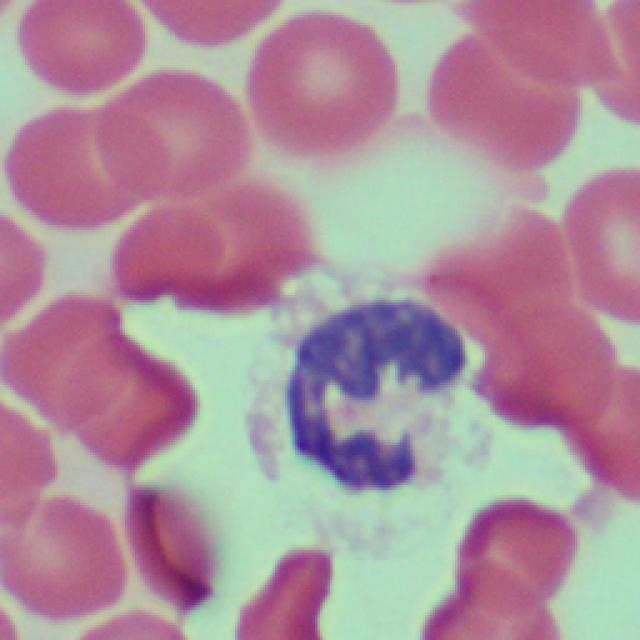RBC: (152, 176, 318, 316), (248, 12, 400, 163), (429, 34, 583, 166), (7, 105, 168, 230), (100, 72, 251, 200), (428, 203, 582, 318), (479, 303, 616, 427), (2, 294, 125, 429), (76, 337, 198, 472), (0, 493, 129, 617), (454, 497, 578, 613), (121, 482, 220, 615), (17, 0, 148, 98), (565, 170, 640, 326), (116, 208, 229, 302), (556, 364, 640, 489), (231, 550, 335, 640), (0, 400, 58, 532), (418, 588, 561, 640), (140, 0, 284, 47), (592, 0, 640, 126), (0, 215, 48, 322)
WBC: (244, 264, 497, 542)
